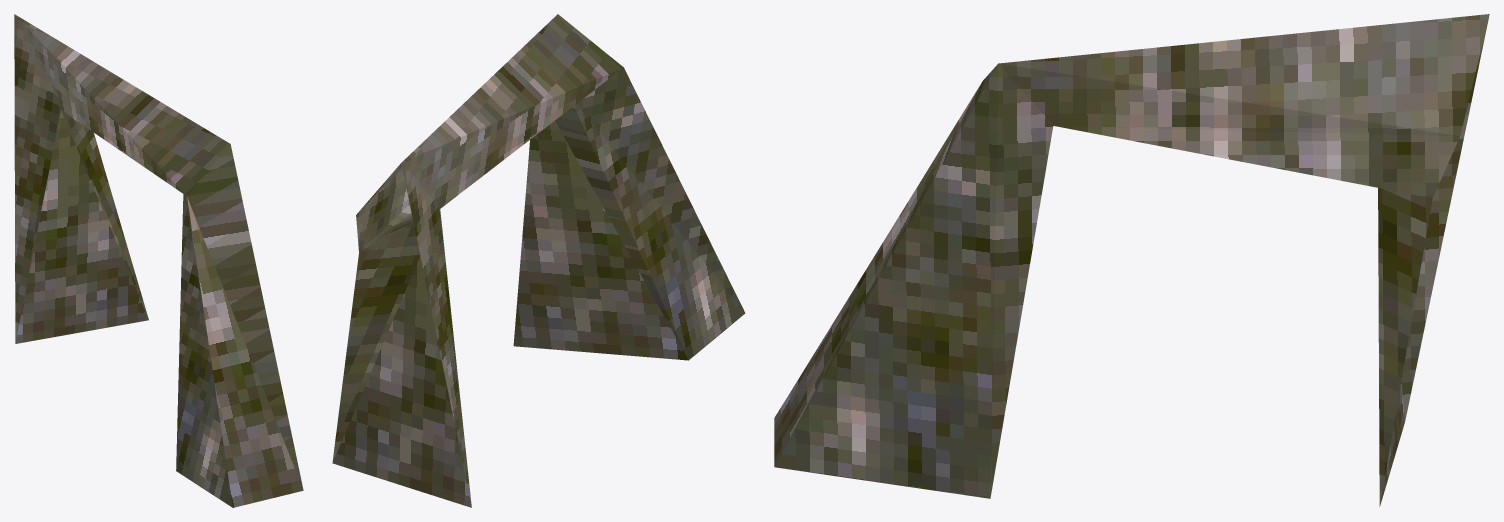
File: uvmd-0050.glb
3 views of the same model, side by side, from view 1: azimuth 30°, elevation 25°; view 2: azimuth 150°, elevation 25°; view 3: azimuth 270°, elevation 25° (orthographic). The views are drawn at different scales.
Visible parts, largest first — view 1: uvmd-0050; view 2: uvmd-0050; view 3: uvmd-0050.
Boxes of the visible parts, left/top/right/bottom form: uvmd-0050: left=14, top=14, right=303, bottom=507; uvmd-0050: left=332, top=14, right=745, bottom=507; uvmd-0050: left=774, top=14, right=1489, bottom=506.
Size of the model in its own units: 112 by 240 by 364.
1 material, 1 textured.
